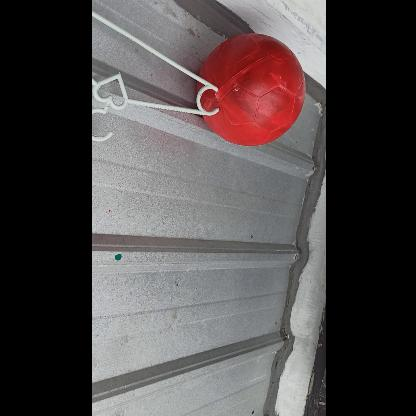red_ball: (195, 35, 307, 147)
